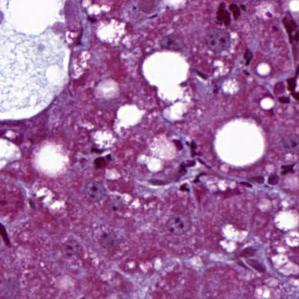ballooning: (5, 15, 72, 123)
